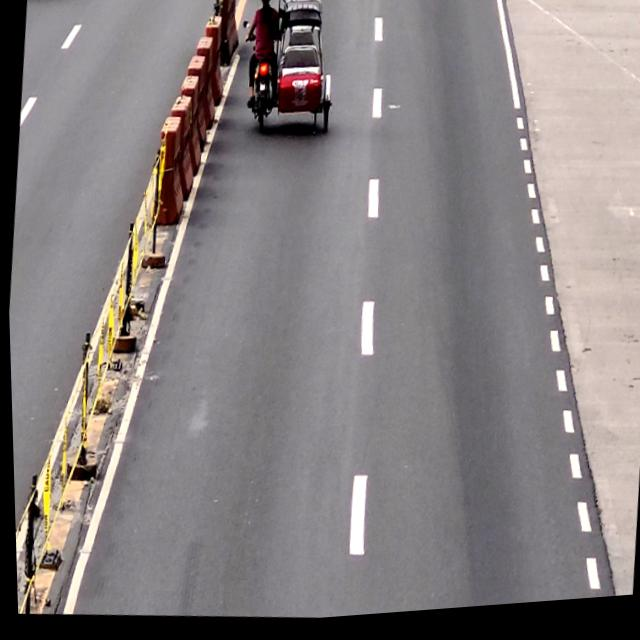Tricycle: (232, 0, 342, 143)
